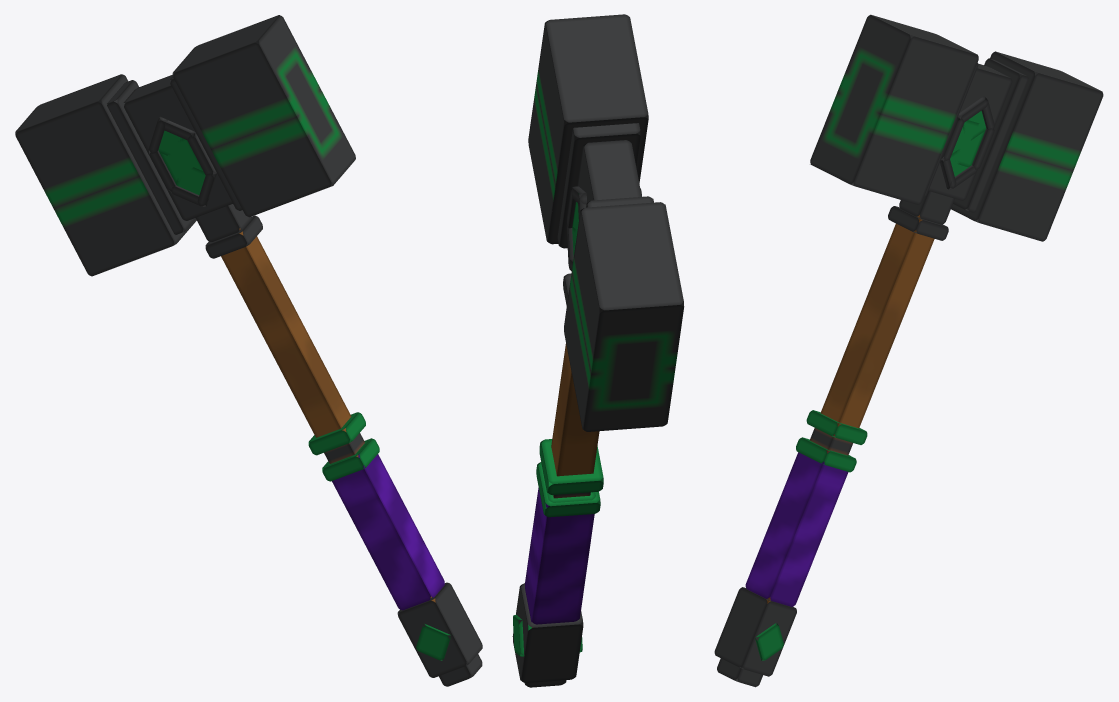
The model's file is hammer.obj.
3 views of the same model, side by side, from view 1: azimuth 30°, elevation 25°; view 2: azimuth 150°, elevation 25°; view 3: azimuth 270°, elevation 25° (orthographic). The views are drawn at different scales.
Visible parts, largest first — view 1: cube.020; view 2: cube.020; view 3: cube.020.
Boxes of the visible parts, bbox=[...] form: cube.020: bbox=[15, 15, 482, 686]; cube.020: bbox=[512, 14, 684, 687]; cube.020: bbox=[714, 14, 1103, 687].
Size of the model in its own units: 1.71 by 3.34 by 1.95.
